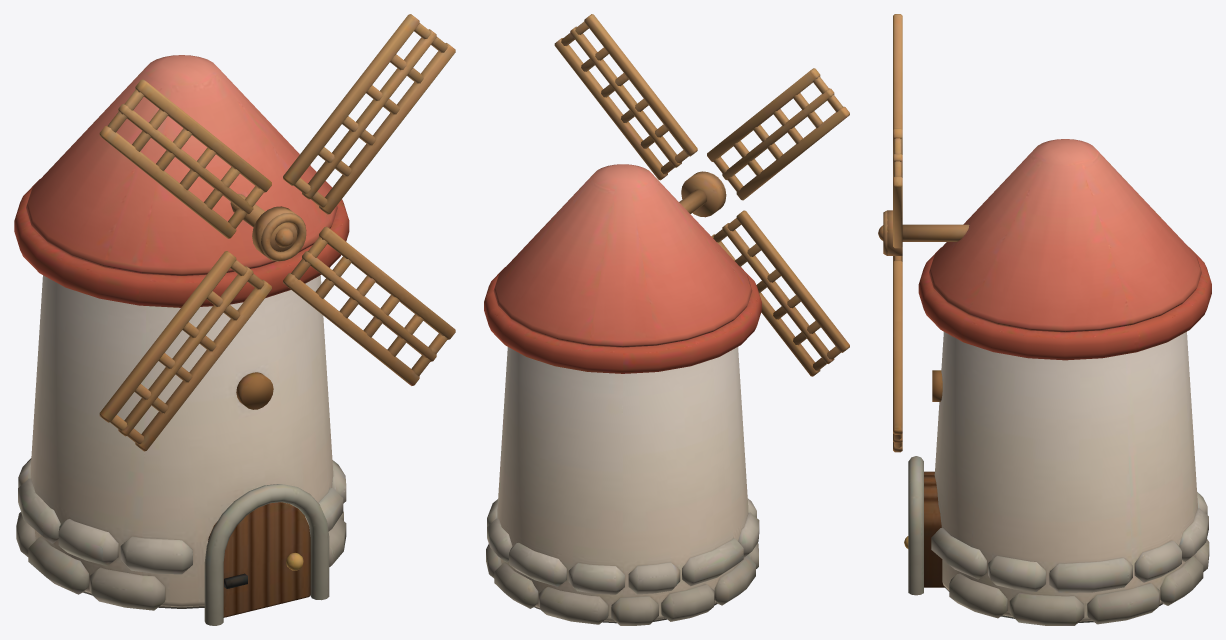
The model's file is mill_2_high.glb.
3 renders of one model, left to right at view 1: azimuth 30°, elevation 25°; view 2: azimuth 150°, elevation 25°; view 3: azimuth 270°, elevation 25°, orthographic. The views are drawn at different scales.
Parts seen in each view (by area): view 1: mill_2, sails; view 2: mill_2, sails; view 3: mill_2, sails.
Part boxes in pixels (x1,y1,x2,y2): mill_2: (14,55,349,625); sails: (99,14,455,451); mill_2: (484,164,761,625); sails: (554,14,849,376); mill_2: (902,139,1211,625); sails: (878,14,902,452).
Size of the model in its own units: 1.33 by 2.05 by 1.25.
Materials: 1 (1 with a texture image).
